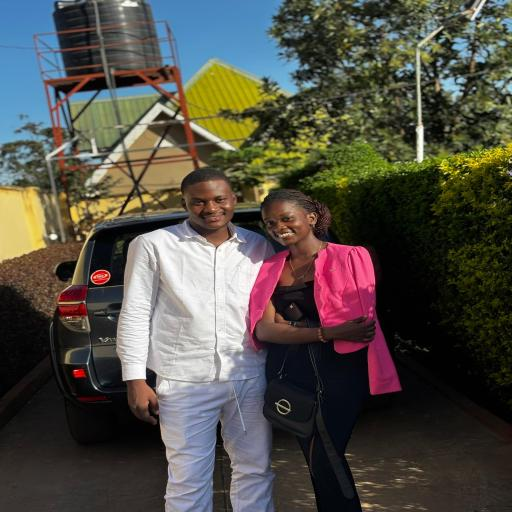LAURENE: (252, 188, 336, 252)
